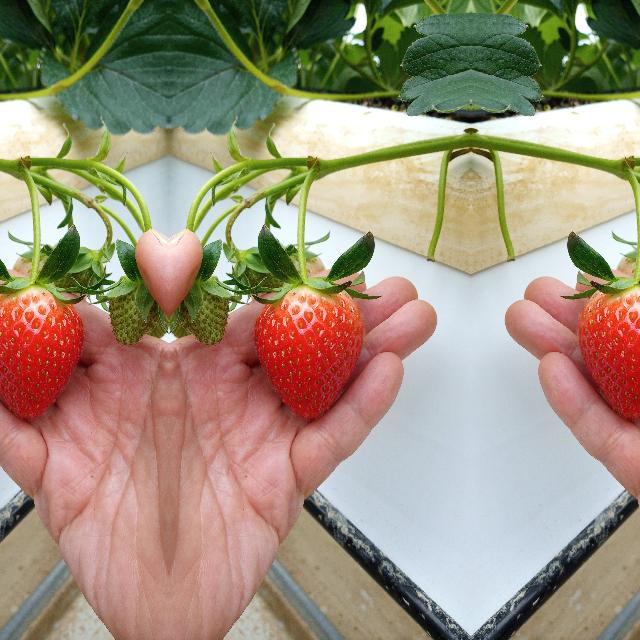Health_100: (252, 284, 364, 418), (0, 283, 84, 418), (577, 283, 640, 418)
Health_25: (102, 272, 162, 354), (174, 272, 233, 354)
